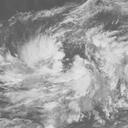cyclone: (10, 22, 119, 121)
